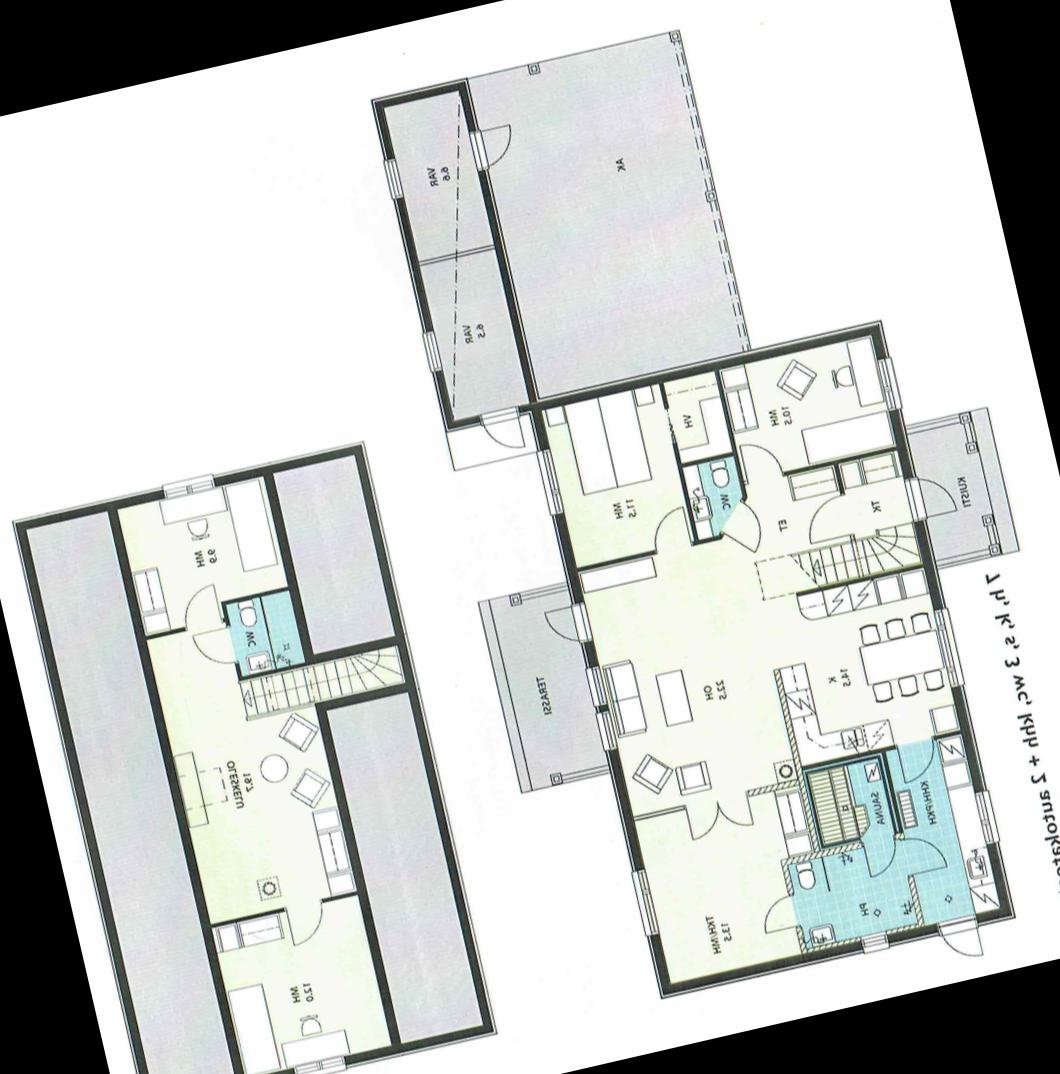door: (709, 490, 772, 562), (464, 119, 527, 183), (470, 395, 530, 462), (731, 432, 788, 496), (893, 824, 952, 885), (799, 488, 858, 548), (933, 906, 991, 966), (280, 892, 338, 951), (903, 469, 964, 525), (890, 732, 950, 788), (542, 598, 600, 653), (188, 618, 242, 673), (174, 580, 228, 635), (642, 498, 692, 557), (678, 792, 730, 846), (713, 788, 764, 838), (852, 832, 905, 880), (756, 891, 804, 941)
window: (623, 858, 674, 944), (529, 436, 575, 522), (929, 597, 968, 696), (968, 778, 1010, 857), (870, 346, 908, 422), (159, 467, 229, 506), (376, 148, 411, 212), (592, 701, 624, 762), (414, 318, 447, 376), (285, 1050, 359, 1074), (851, 928, 898, 962), (583, 660, 612, 712)
